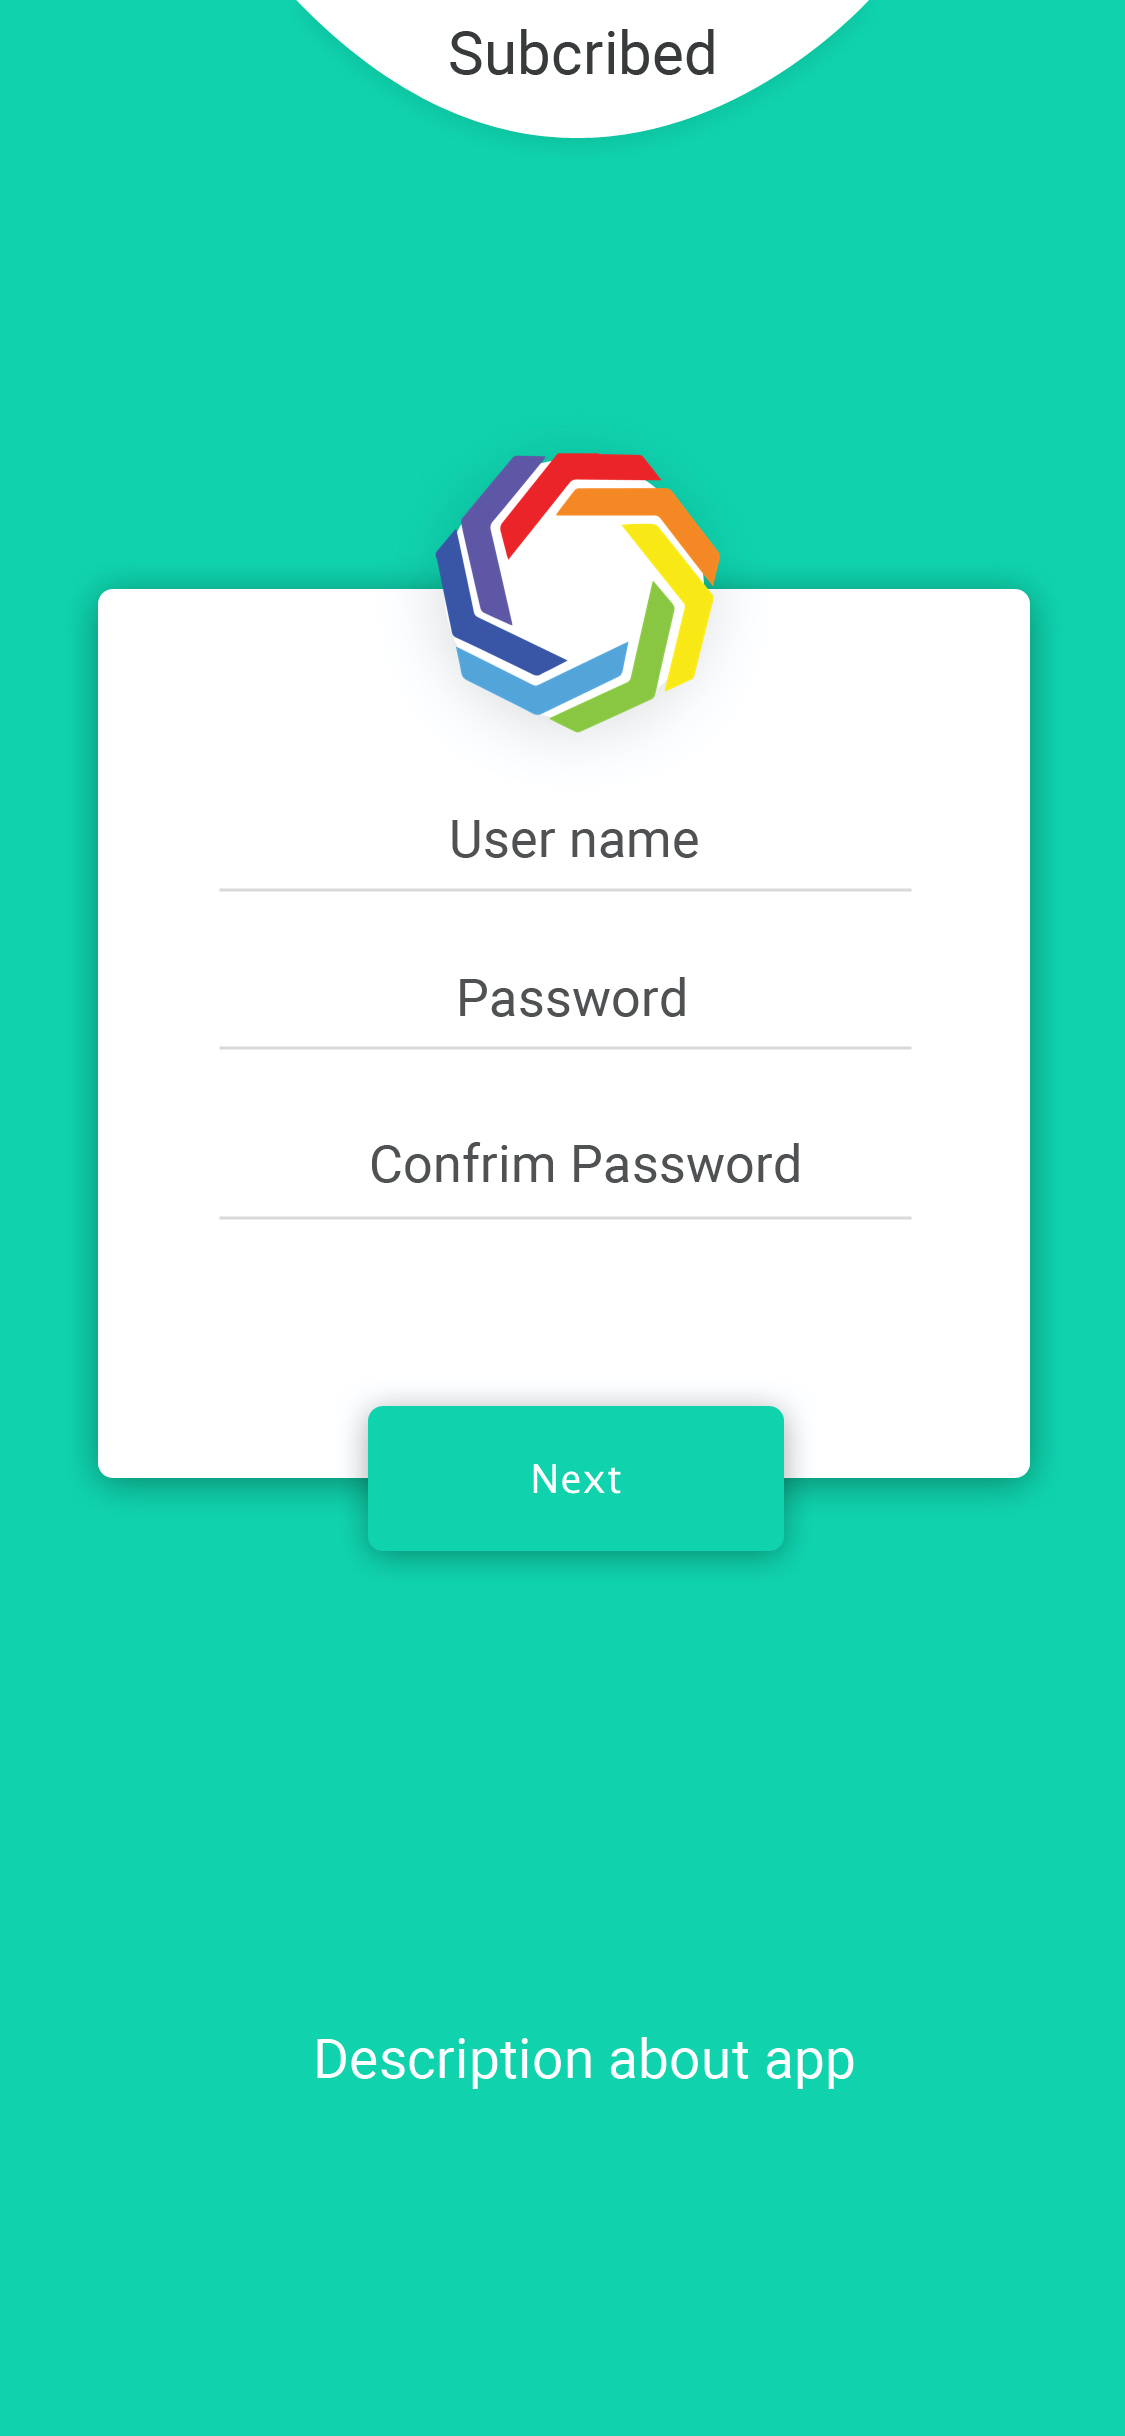EditText: (216, 1140, 914, 1223), (218, 819, 912, 895), (218, 977, 912, 1052)
Image: (434, 452, 723, 733)
Text: (315, 2037, 855, 2090), (370, 1140, 800, 1184), (451, 30, 715, 78), (451, 820, 698, 861), (458, 977, 685, 1019)
TextButton: (368, 1406, 785, 1552)
